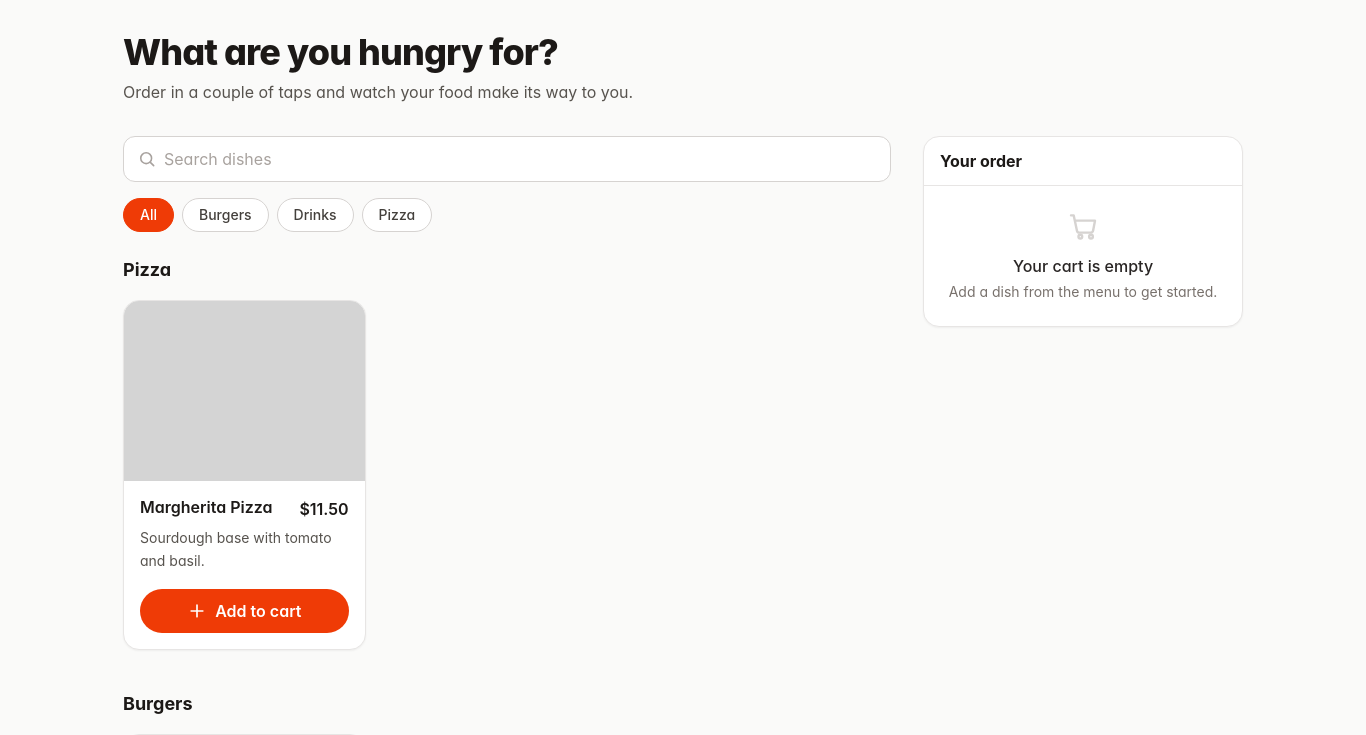
adding to the cart › increases the quantity from the menu card
Expected: the heading "Margherita Pizza" is shown, [140,498,272,518]
Click the button with aria-label "add margherita pizza to cart" at [244, 611], box [140,589,349,633]
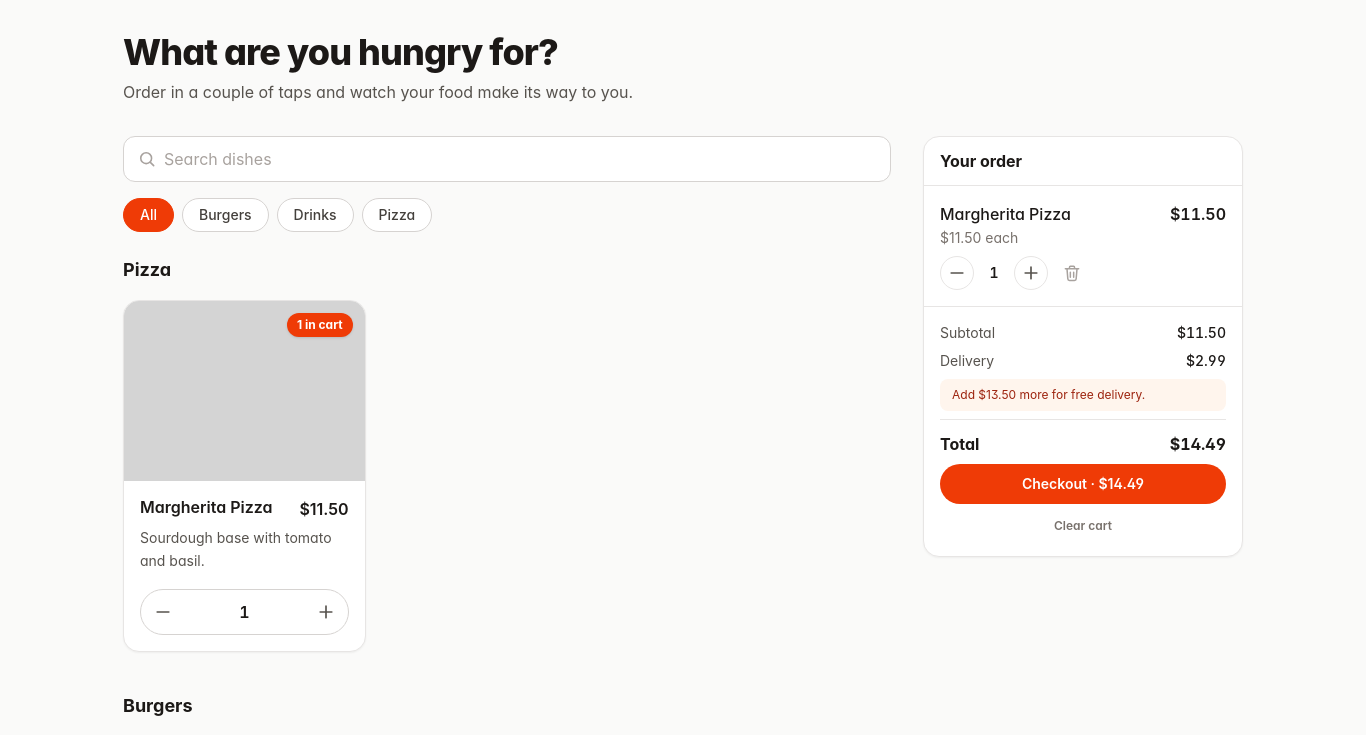
Click the button named "increase" below "Sourdough base with tomato and basil." at [326, 612], box [308,594,344,630]
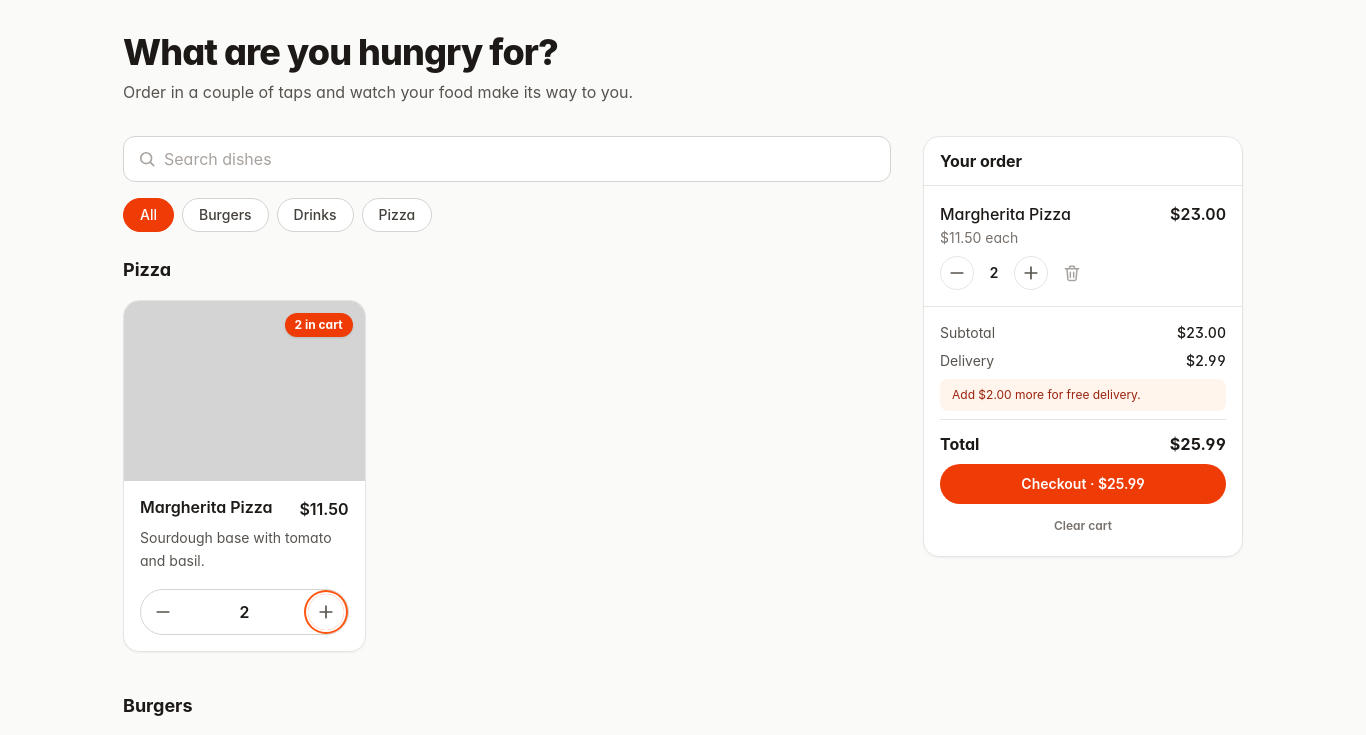
Result: the text with test id "in-cart-badge-1" reads "2 in cart" at [284,313,353,337]
Result: the text "$23.00" in the row of "each" is shown at [1170,204,1226,224]
Result: the text with test id "cart-total" reads "$25.99" at [1170,434,1226,454]
